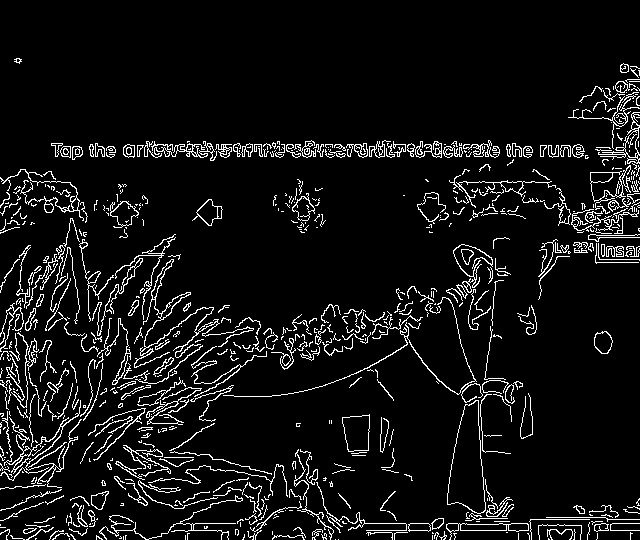down: (410, 185, 455, 227)
left: (190, 193, 235, 232)
up: (102, 193, 145, 236), (287, 188, 327, 230)
